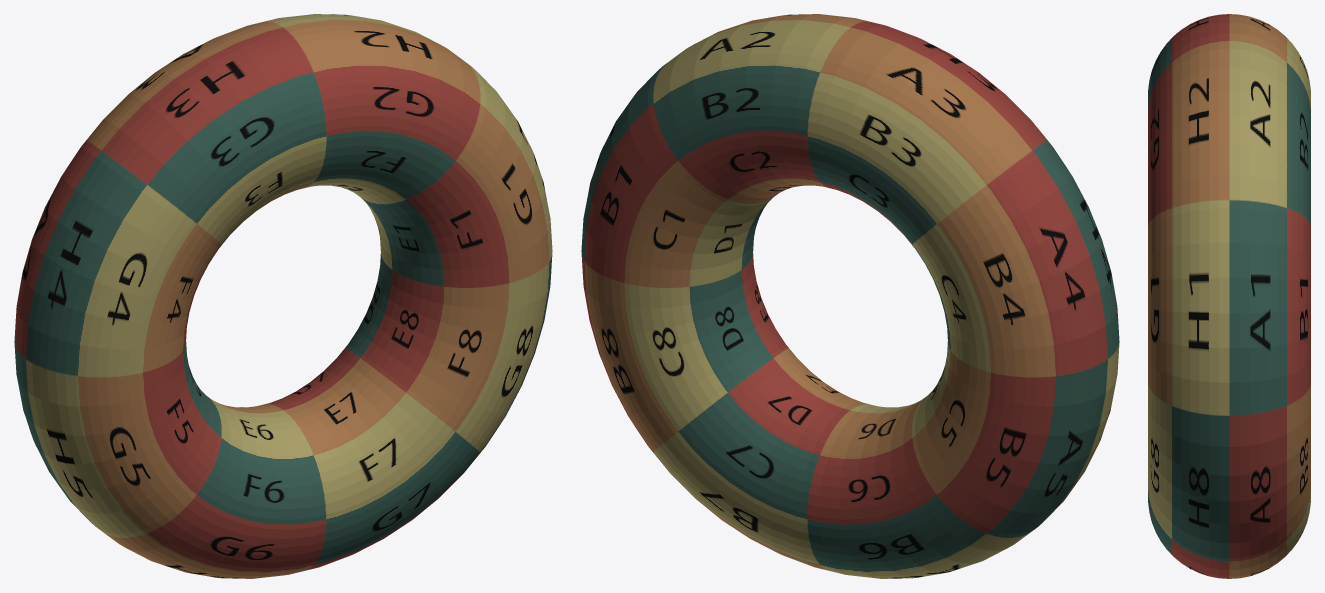
File: texture_torus_R20_r28.glb
3 views of the same model, side by side, from view 1: azimuth 30°, elevation 25°; view 2: azimuth 150°, elevation 25°; view 3: azimuth 270°, elevation 25° (orthographic). The views are drawn at different scales.
Parts seen in each view (by area): view 1: world; view 2: world; view 3: world.
Part boxes in pixels (x1,y1,x2,y2): world: [14, 14, 552, 578]; world: [581, 14, 1119, 578]; world: [1148, 14, 1310, 578].
Size of the model in its own units: 32.8 by 32.74 by 9.45.
1 material, 1 textured.
